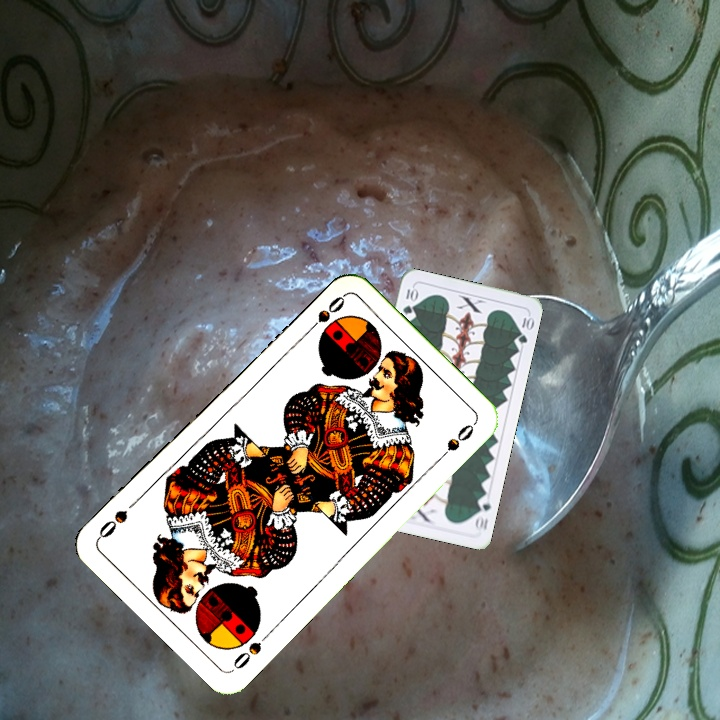G10: (471, 492, 493, 533), (399, 283, 419, 317)
SO: (301, 291, 348, 338), (228, 627, 274, 673)
